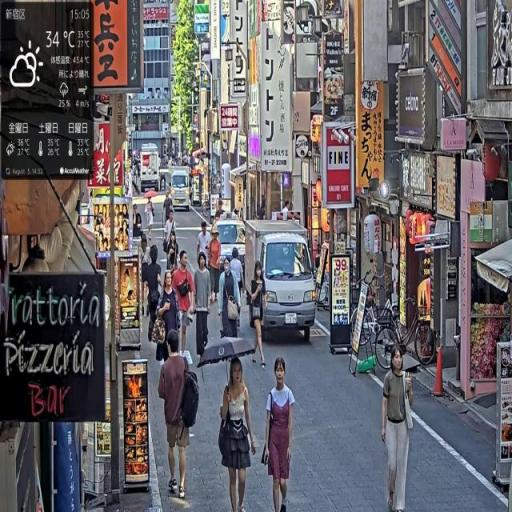person: (158, 332, 201, 502), (218, 356, 258, 512), (382, 346, 419, 512), (260, 354, 297, 512), (154, 270, 181, 368), (173, 249, 196, 361), (193, 252, 214, 371), (247, 261, 268, 369), (209, 225, 224, 307), (196, 220, 212, 275)
